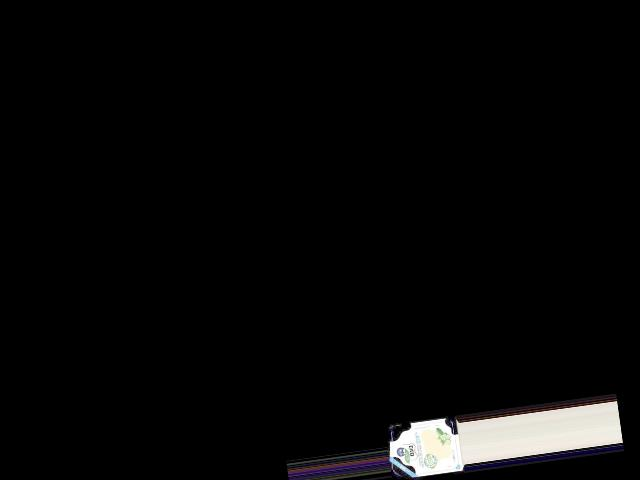cheese: (385, 413, 466, 480)
